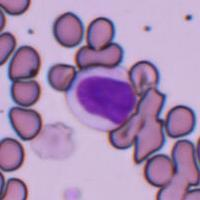L: (64, 70, 138, 130)
